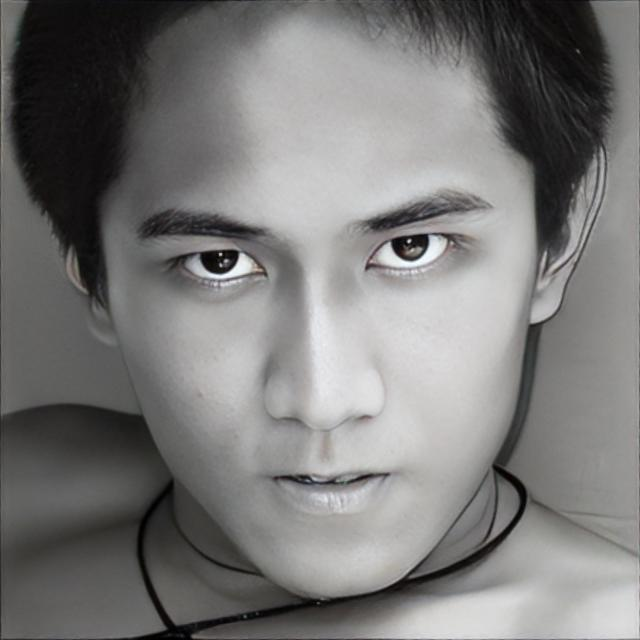anger: (117, 34, 529, 596)
